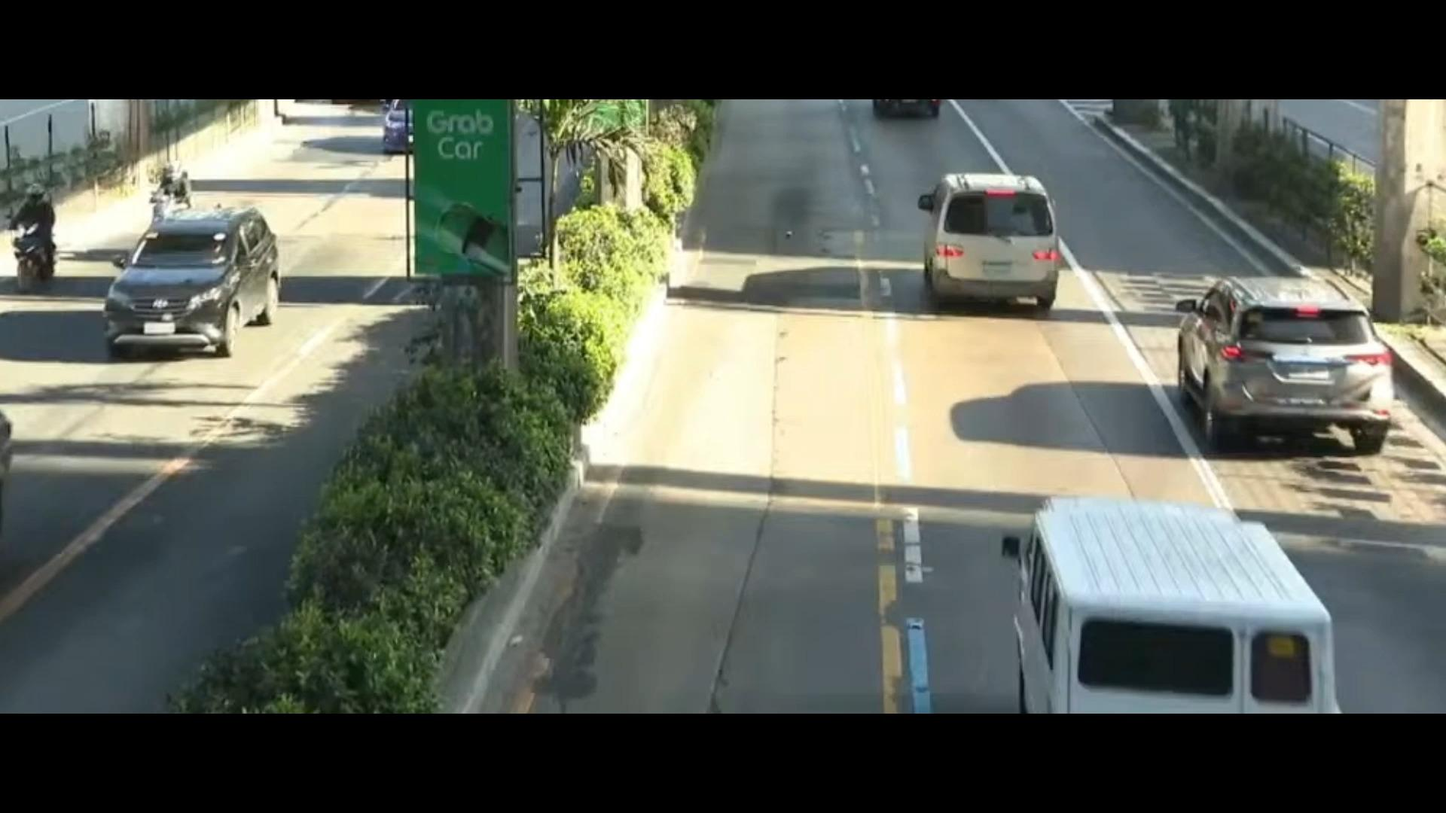Motorcycle: (12, 170, 89, 310), (131, 168, 217, 247)
Multicab: (989, 458, 1373, 711)
SUV: (1134, 239, 1421, 483), (75, 194, 320, 381), (887, 158, 1072, 327)
